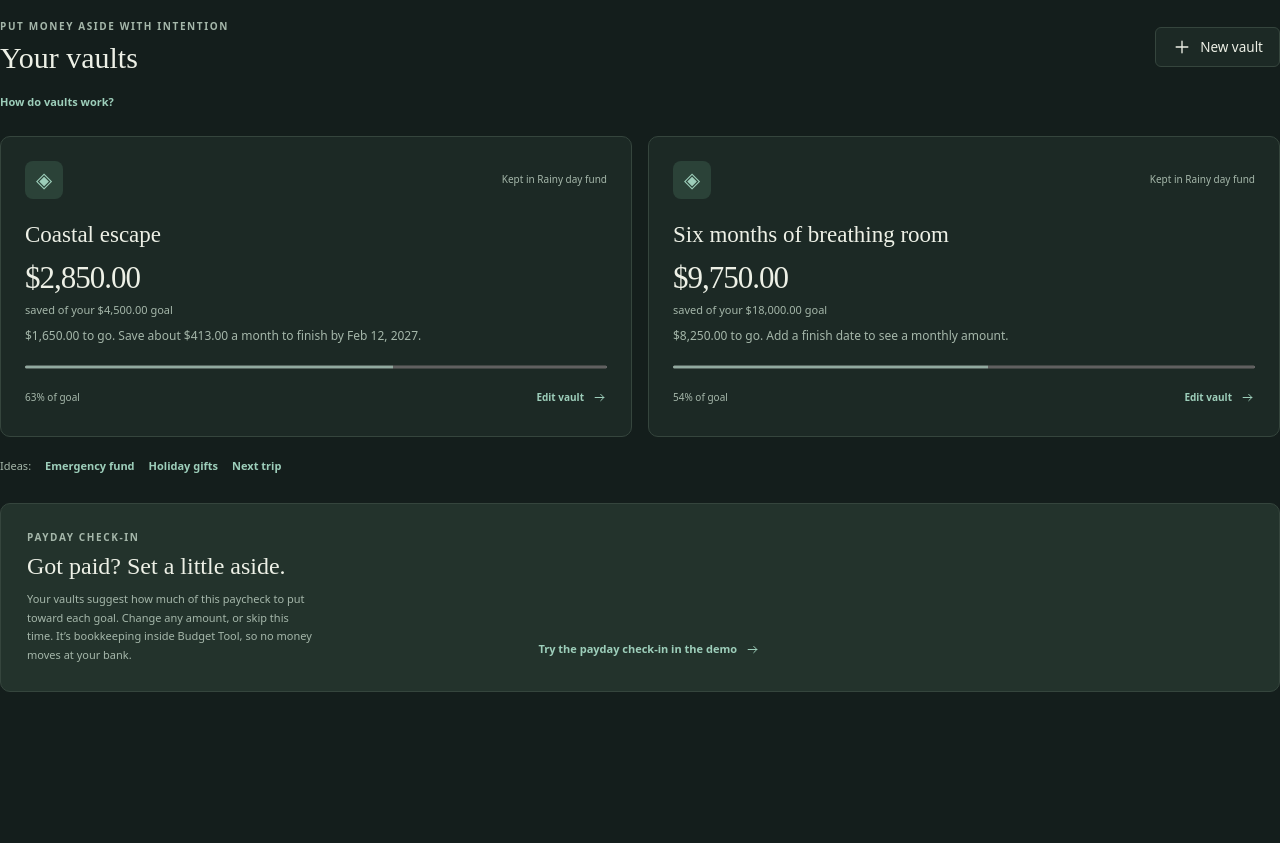
Test: demo vault allocation review › keeps the live form open with the server error when saving fails
The width and height of the screenshot is (1280, 843).
Click the button "Edit vault" in the row of "63% of goal". click: (572, 397)
box: [536,383,607,412]
(page scrolled)
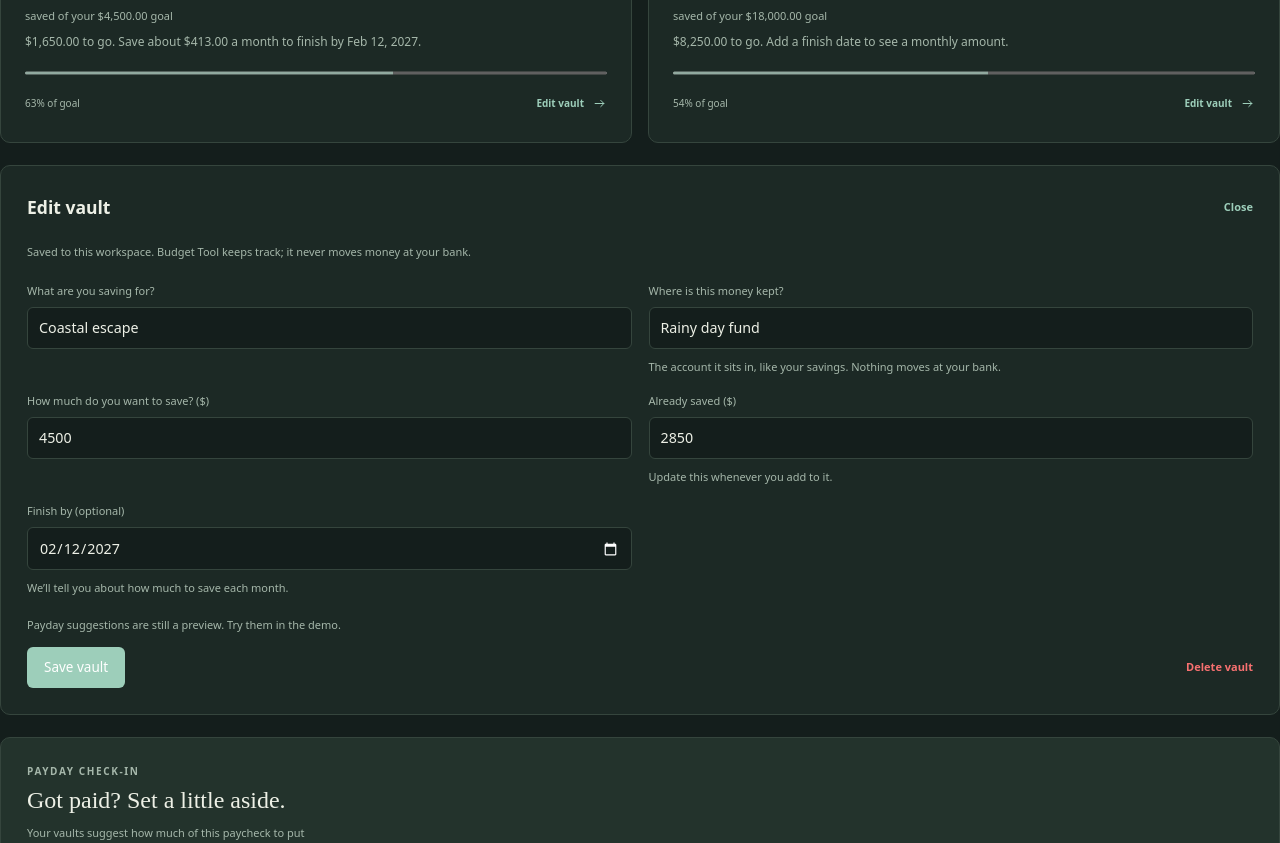
Submit the form
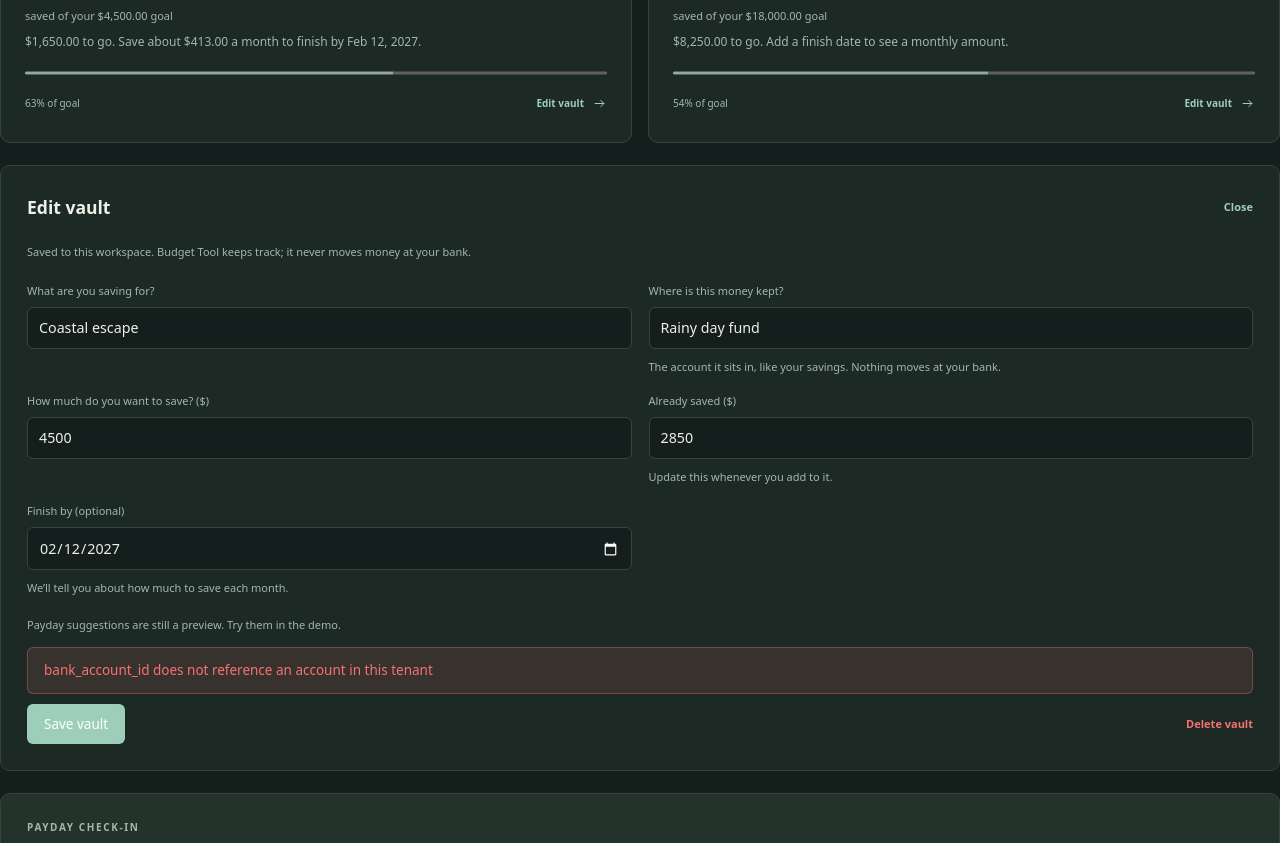
Check: the message "bank_account_id does not reference an account in this tenant" is shown, box [27,648,1253,694]
